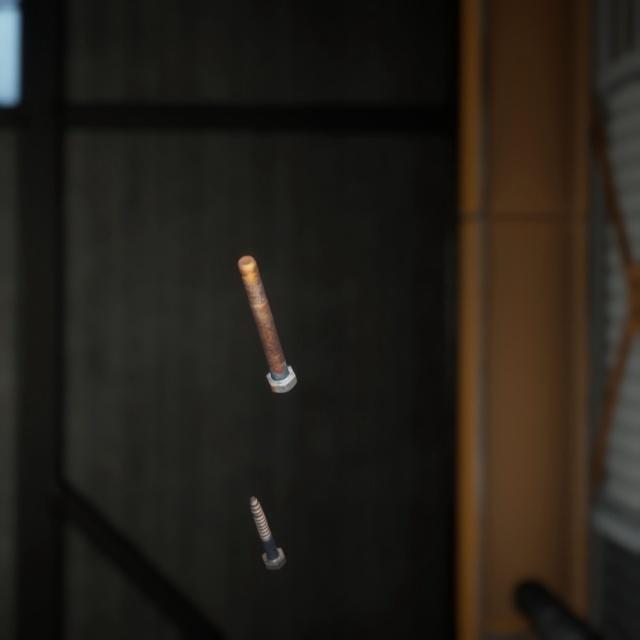bolt: (233, 232, 301, 379), (245, 469, 290, 552)
